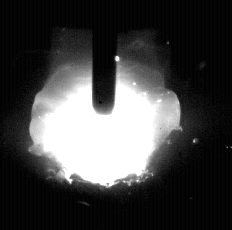arame: (92, 0, 117, 114)
poca: (30, 0, 179, 230)
